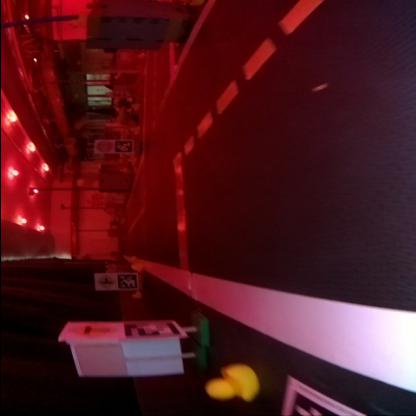Duckie: (204, 365, 258, 401)
Intersection sign: (66, 322, 121, 336), (94, 273, 115, 289)
QR code: (282, 377, 362, 414), (122, 320, 181, 336), (116, 274, 136, 288), (113, 140, 131, 152)
Stop sign: (94, 139, 112, 150)
